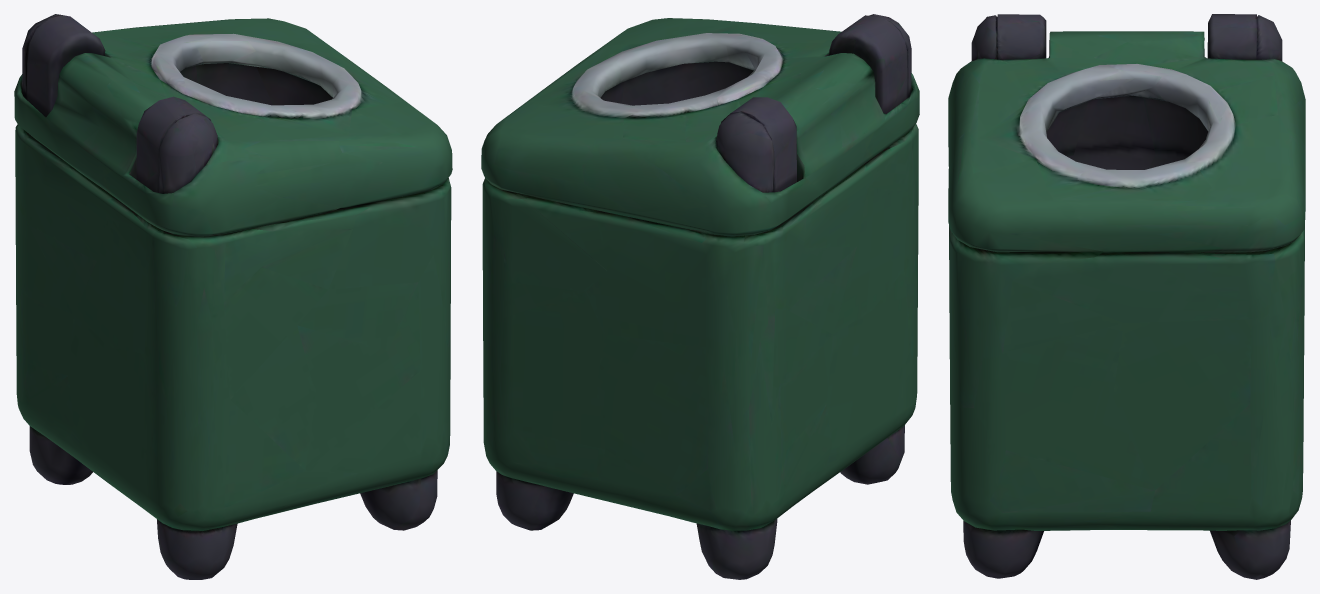
Rendered from bin_box.glb.
3 views of the same model, side by side, from view 1: azimuth 30°, elevation 25°; view 2: azimuth 150°, elevation 25°; view 3: azimuth 270°, elevation 25° (orthographic). The views are drawn at different scales.
Parts seen in each view (by area): view 1: tripo_node_4e6dbe06-1c8e-44d6-95ff-b1f0accc8e07; view 2: tripo_node_4e6dbe06-1c8e-44d6-95ff-b1f0accc8e07; view 3: tripo_node_4e6dbe06-1c8e-44d6-95ff-b1f0accc8e07.
Part boxes in pixels (box(x1,y1,x2,y2)): tripo_node_4e6dbe06-1c8e-44d6-95ff-b1f0accc8e07: box(14, 14, 452, 579); tripo_node_4e6dbe06-1c8e-44d6-95ff-b1f0accc8e07: box(481, 14, 919, 579); tripo_node_4e6dbe06-1c8e-44d6-95ff-b1f0accc8e07: box(948, 14, 1305, 579).
Bounding box in the file's own units: 0.6534 × 0.9789 × 0.7002.
Materials: 1 (1 with a texture image).
